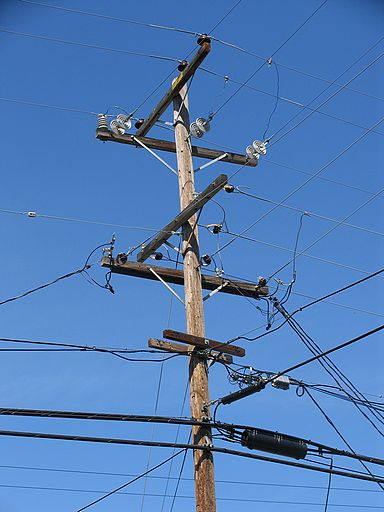utility_pole: (84, 26, 280, 383)
